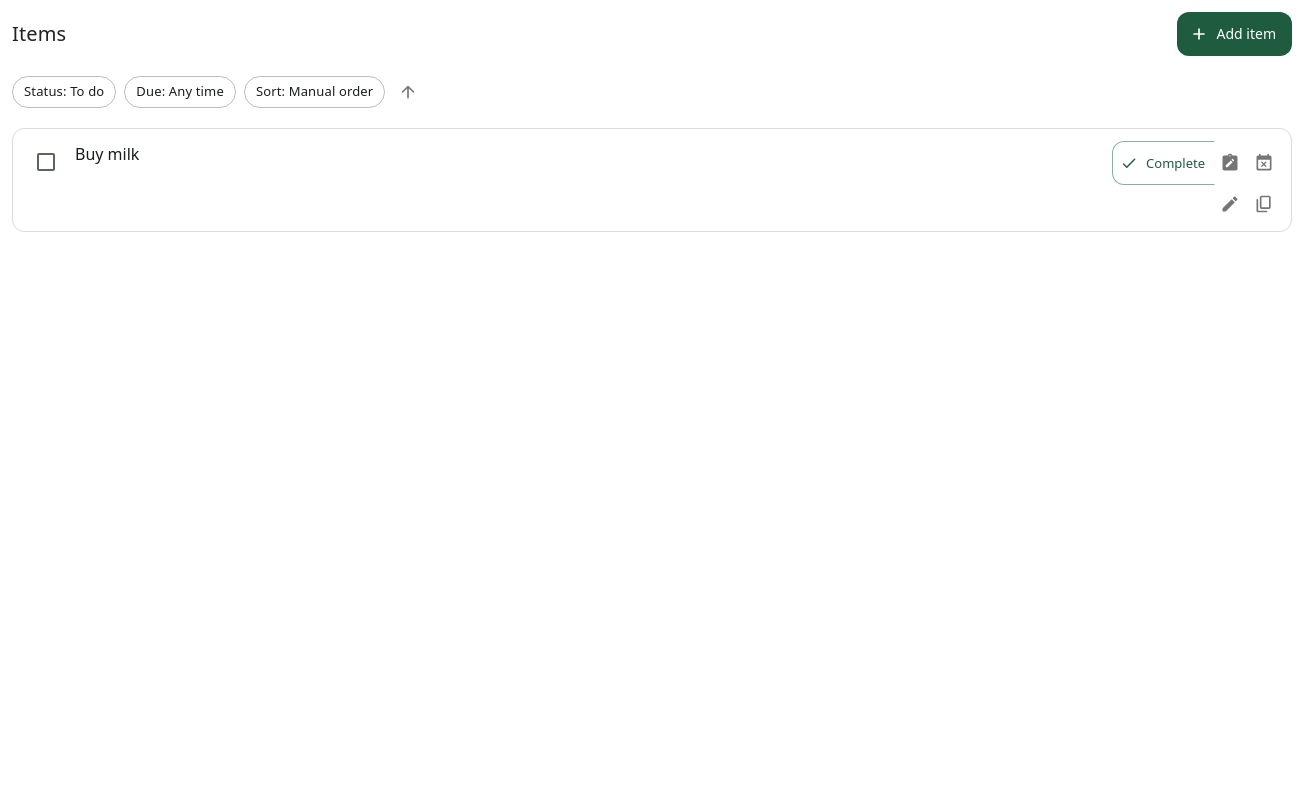
Test: ItemsSection › says what happened when the filter takes the row away
The image size is (1304, 812).
Click the button with aria-label "Complete Buy milk" at (1164,163), box [1112, 141, 1215, 185]
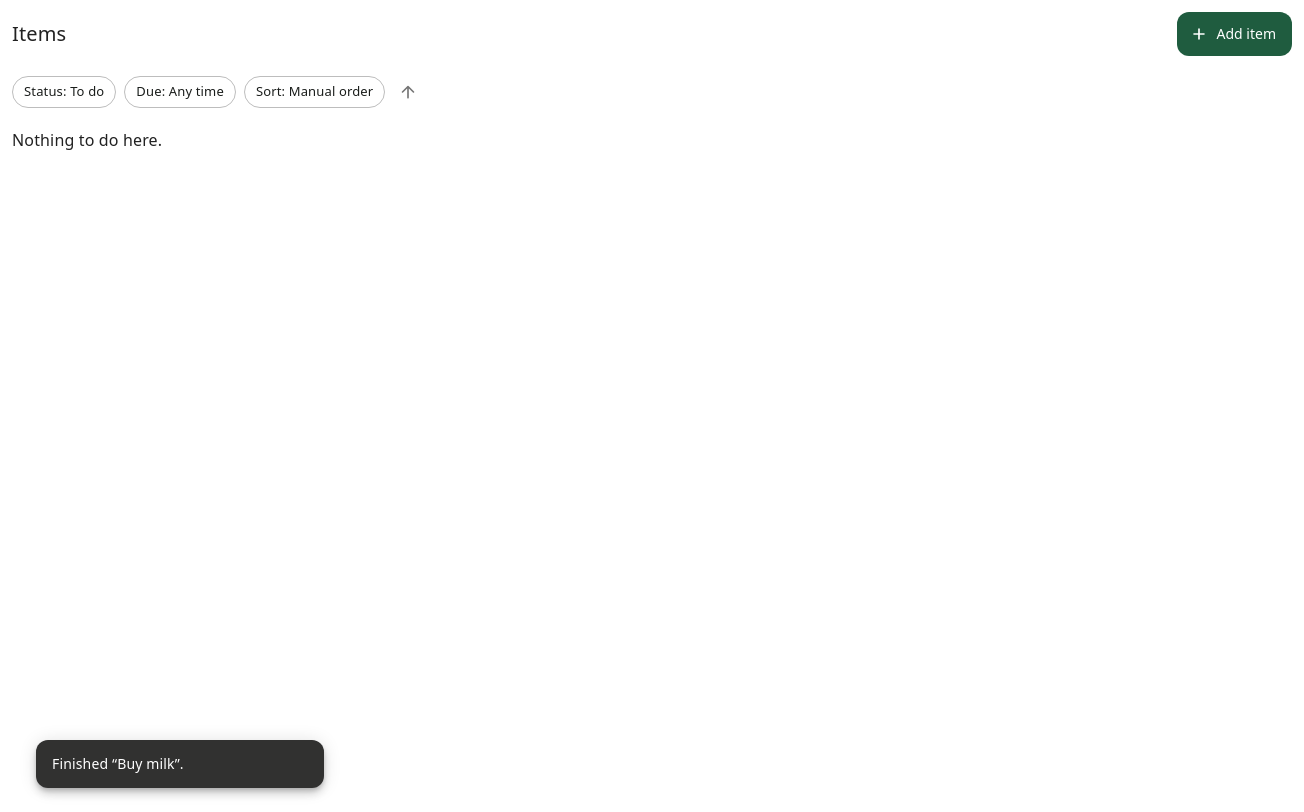
Expected: the text "Finished “Buy milk”." is shown, [52, 754, 184, 773]
